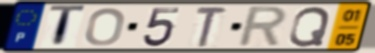5: (140, 7, 183, 48)
O: (83, 7, 128, 48)
Q: (287, 5, 333, 48)
R: (235, 5, 290, 49)
T: (47, 4, 88, 50), (194, 5, 230, 48)
